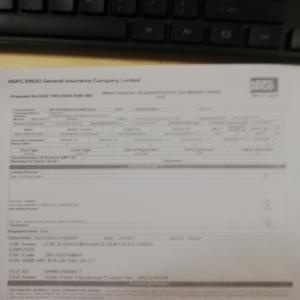image: (249, 75, 279, 96)
table: (9, 108, 287, 165)
text: (4, 73, 148, 88)
